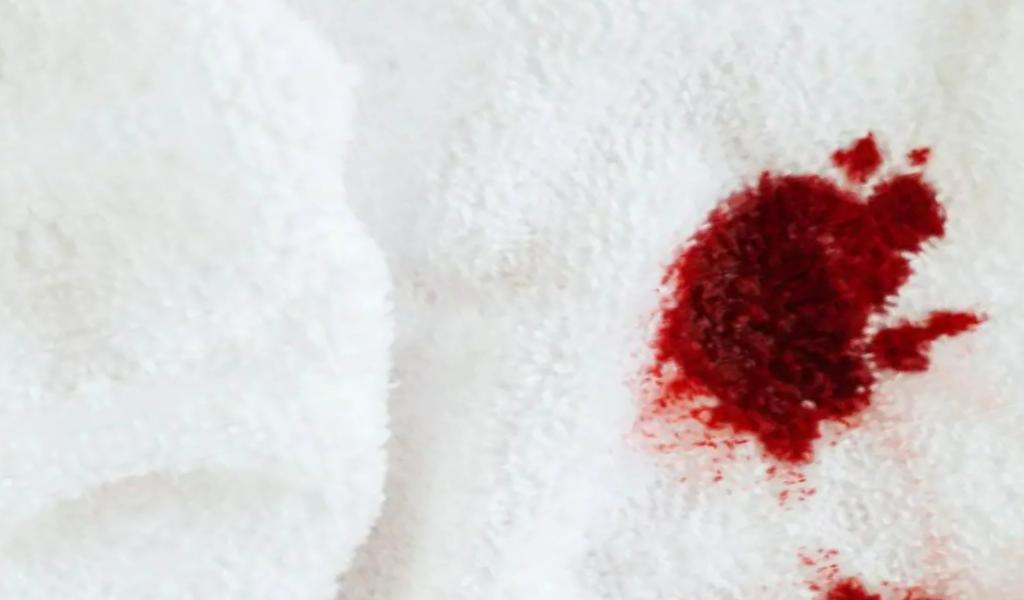stain: (635, 128, 992, 507), (799, 542, 968, 599)
